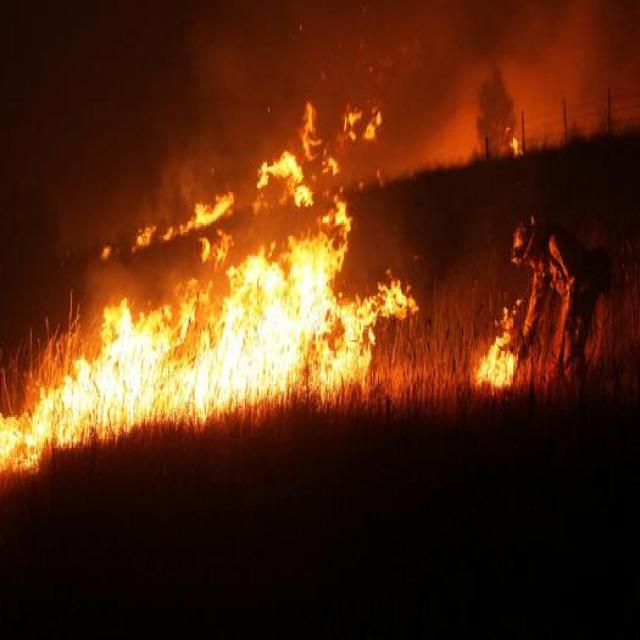Fire: (37, 240, 339, 439), (122, 146, 322, 254), (471, 313, 529, 396)
